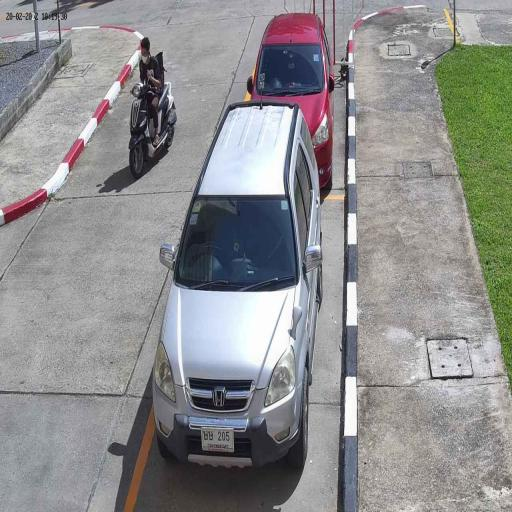car: (153, 102, 323, 474), (246, 12, 336, 194)
motorcycle: (128, 81, 178, 182)
